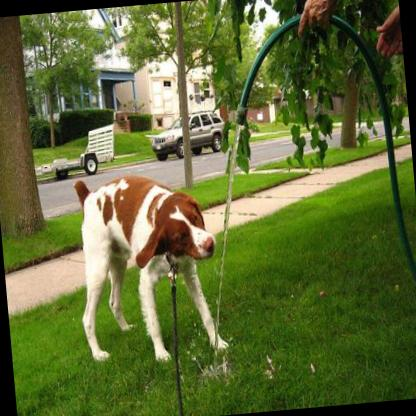Brittany_spaniel: (67, 165, 227, 365)
